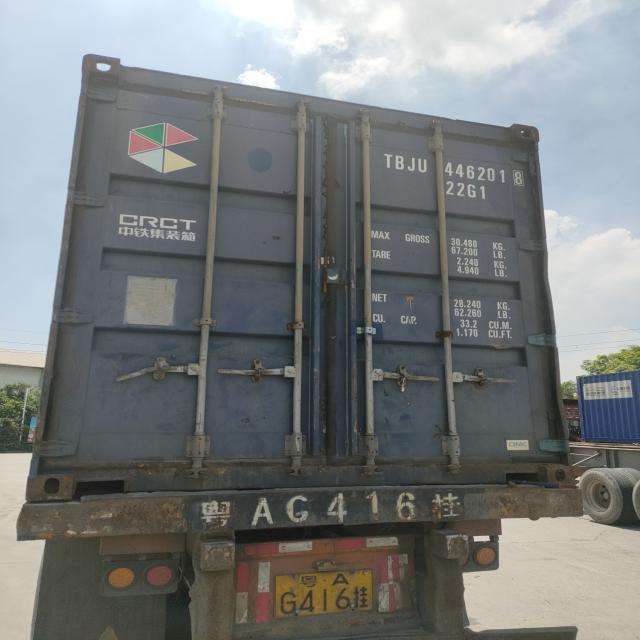seal: (400, 372, 407, 392)
